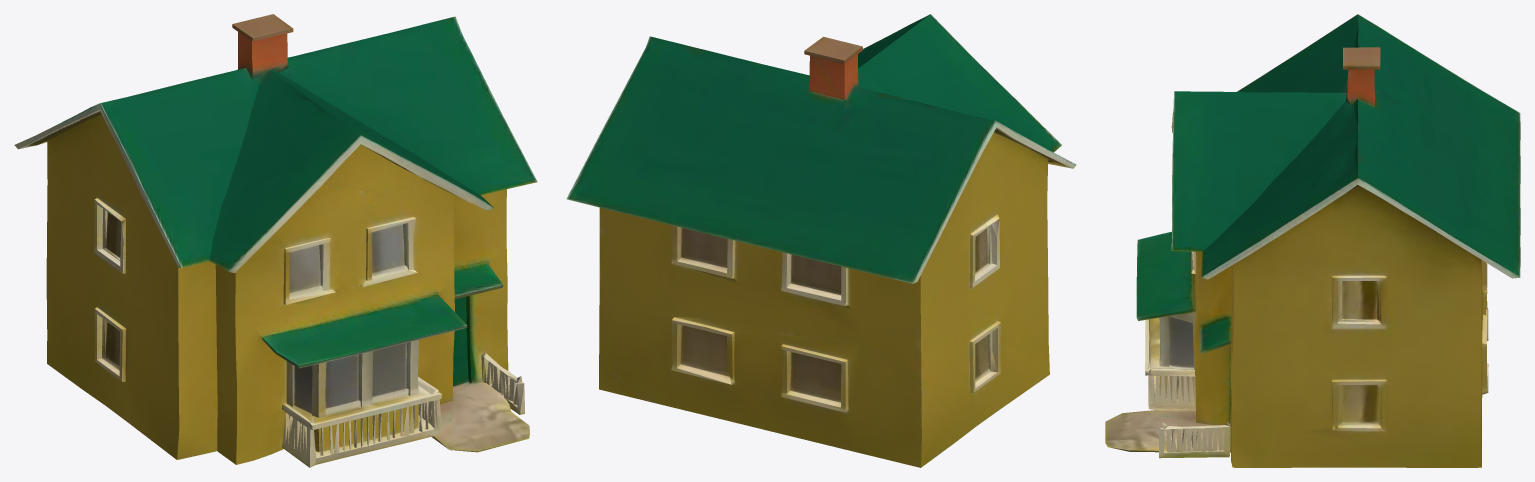
File: houseC.glb
3 renders of one model, left to right at view 1: azimuth 30°, elevation 25°; view 2: azimuth 150°, elevation 25°; view 3: azimuth 270°, elevation 25°, orthographic. The views are drawn at different scales.
Parts seen in each view (by area): view 1: model; view 2: model; view 3: model.
Boxes of the visible parts, bbox=[...] form: model: bbox=[14, 14, 537, 467]; model: bbox=[566, 14, 1076, 467]; model: bbox=[1105, 14, 1520, 467].
Bounding box in the file's own units: 1.78 × 1.66 × 1.9.
Materials: 1 (1 with a texture image).
